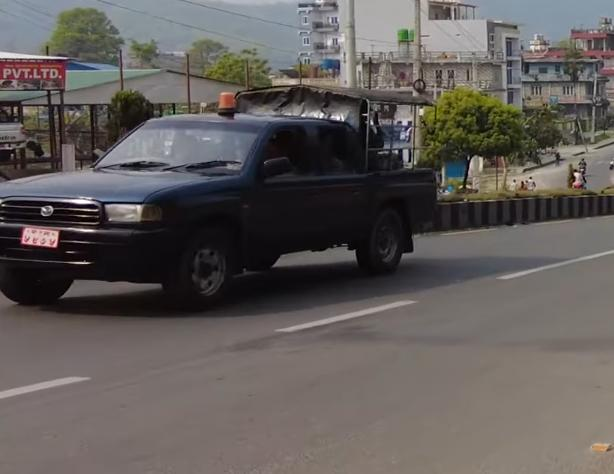police_vehicle: (0, 71, 443, 317)
